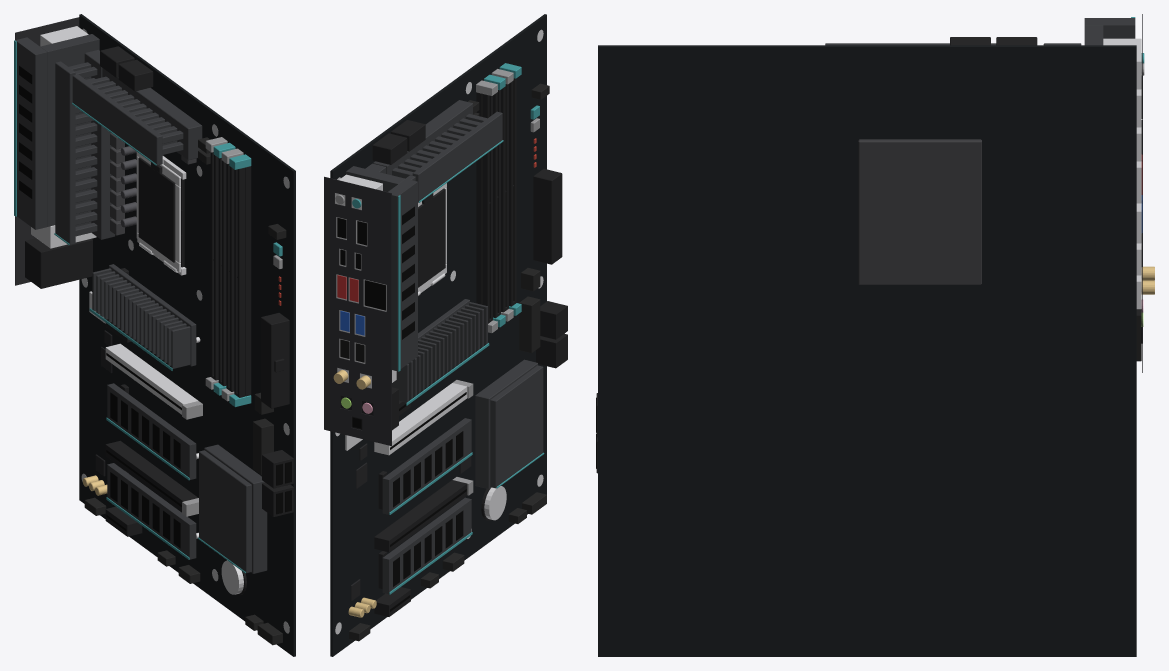
The model's file is LGA1851_MB_ATX.glb.
3 views of the same model, side by side, from view 1: azimuth 30°, elevation 25°; view 2: azimuth 150°, elevation 25°; view 3: azimuth 270°, elevation 25° (orthographic). The views are drawn at different scales.
Visible parts, largest first — view 1: PCB, IO_Cover, VRM_Heatsink_Left, Chipset_Heatsink, VRM_Heatsink_Top, M2_0_Heatsink, DIMM_B2, Rear_IO, M2_1_Heatsink, M2_2_Heatsink, Board_Components, Socket_Cover (+14 smaller); view 2: PCB, IO_Shield, Chipset_Heatsink, VRM_Heatsink_Top, IO_Cover, M2_0_Heatsink, Rear_IO, M2_1_Heatsink, M2_2_Heatsink, Headers, DIMM_A1, Power_ATX24 (+12 smaller); view 3: PCB, CPU_Backplate, Rear_IO, IO_Cover.
Boxes of the visible parts, left/top/right/bottom form: PCB: left=79, top=14, right=295, bottom=656; IO_Cover: left=14, top=34, right=99, bottom=229; VRM_Heatsink_Left: left=54, top=50, right=115, bottom=244; Chipset_Heatsink: left=198, top=444, right=267, bottom=573; VRM_Heatsink_Top: left=72, top=68, right=202, bottom=165; M2_0_Heatsink: left=89, top=264, right=196, bottom=370; DIMM_B2: left=229, top=154, right=251, bottom=407; Rear_IO: left=25, top=26, right=96, bottom=288; M2_1_Heatsink: left=106, top=383, right=196, bottom=480; M2_2_Heatsink: left=106, top=463, right=196, bottom=559; Board_Components: left=82, top=133, right=282, bottom=495; Socket_Cover: left=138, top=157, right=175, bottom=262; PCB: left=330, top=14, right=546, bottom=656; IO_Shield: left=324, top=176, right=391, bottom=445; Chipset_Heatsink: left=475, top=359, right=544, bottom=488; VRM_Heatsink_Top: left=373, top=100, right=503, bottom=202; IO_Cover: left=346, top=166, right=417, bottom=371; M2_0_Heatsink: left=392, top=299, right=489, bottom=405; Rear_IO: left=333, top=174, right=398, bottom=430; M2_1_Heatsink: left=382, top=418, right=472, bottom=514; M2_2_Heatsink: left=382, top=497, right=472, bottom=594; Headers: left=349, top=83, right=549, bottom=641; DIMM_A1: left=476, top=80, right=497, bottom=332; Power_ATX24: left=533, top=169, right=562, bottom=264; PCB: left=598, top=45, right=1136, bottom=656; CPU_Backplate: left=858, top=139, right=981, bottom=284; Rear_IO: left=1103, top=38, right=1154, bottom=361; IO_Cover: left=1084, top=17, right=1135, bottom=45.
Size of the model in its own units: 0.0474 by 0.305 by 0.2531.
